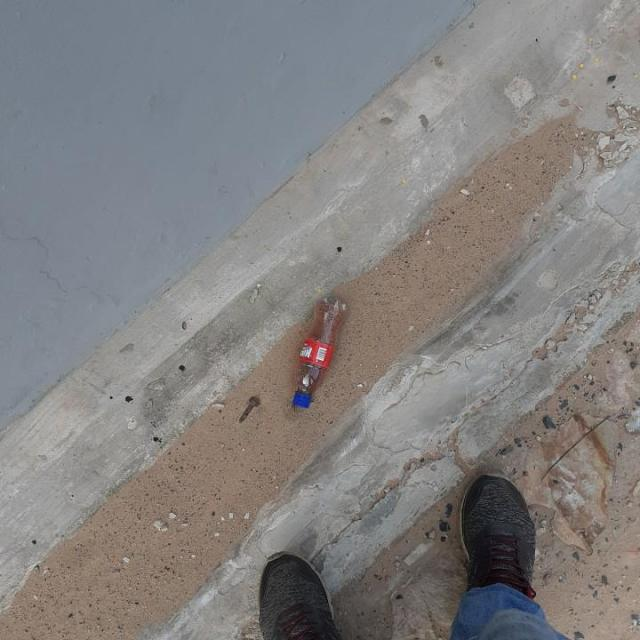litter: (299, 294, 344, 388), (292, 391, 316, 407)
